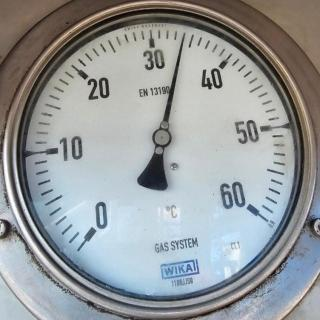gauge: (0, 0, 320, 320), (213, 174, 273, 238), (70, 212, 112, 252), (152, 126, 172, 148), (179, 29, 189, 43)
